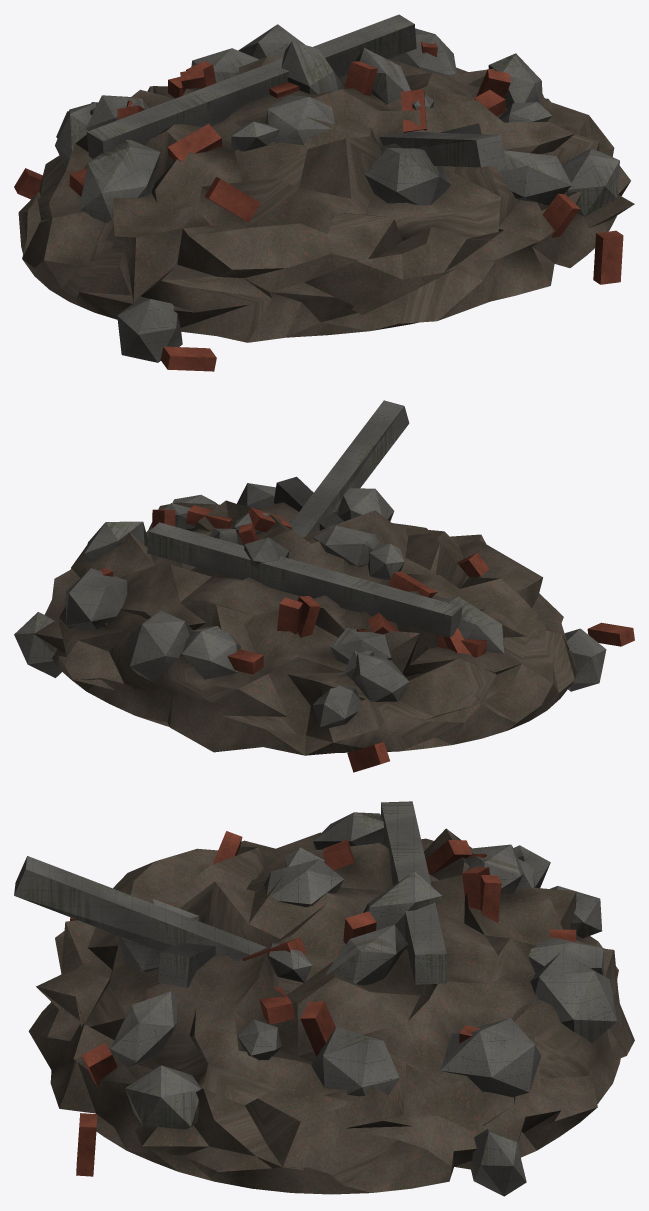
File: rubble_pile.glb
The picture shows the model from 3 angles, top to bottom: view 1: azimuth 30°, elevation 25°; view 2: azimuth 150°, elevation 25°; view 3: azimuth 270°, elevation 25°; orthographic projection. The views are drawn at different scales.
Visible parts, largest first — view 1: Rubble_Pile; view 2: Rubble_Pile; view 3: Rubble_Pile.
Boxes of the visible parts, bbox=[...] form: Rubble_Pile: bbox=[14, 14, 634, 371]; Rubble_Pile: bbox=[14, 400, 634, 772]; Rubble_Pile: bbox=[14, 801, 634, 1196].
Bounding box in the file's own units: 2.74 × 0.9969 × 2.34.
3 materials, 3 textured.
